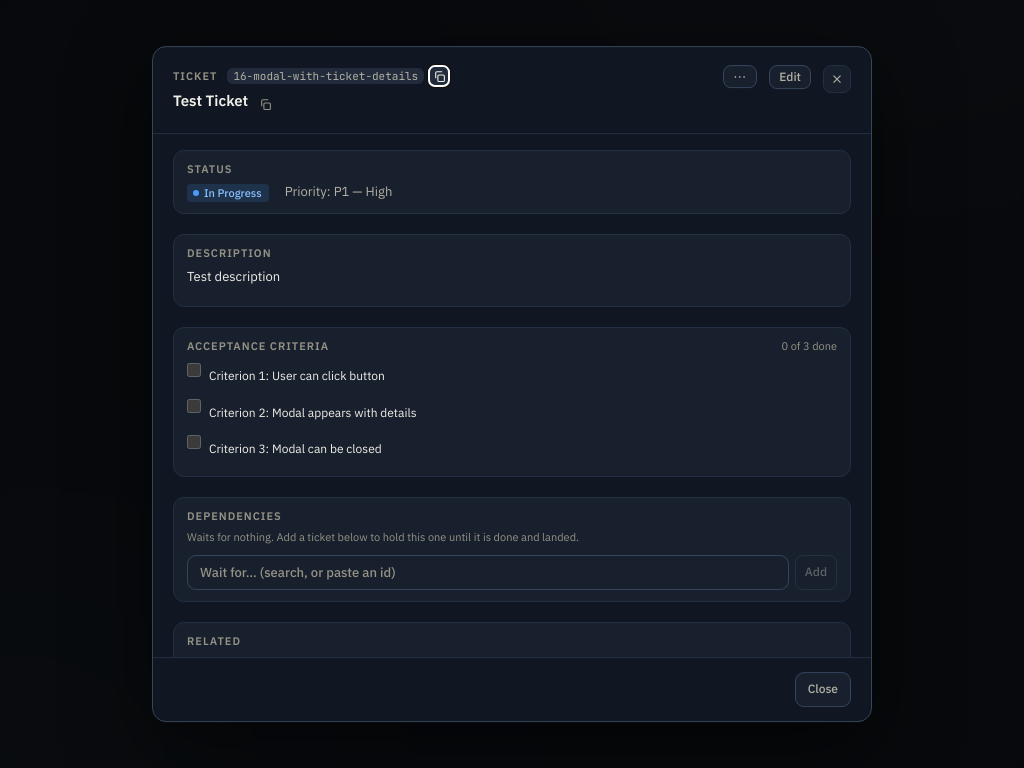
TicketDetailsModal › Ticket Details Display › should load acceptance criteria into the editor, one field per criterion
The image size is (1024, 768).
Click the button "Edit" at point(790, 77), box [769,65,811,90]
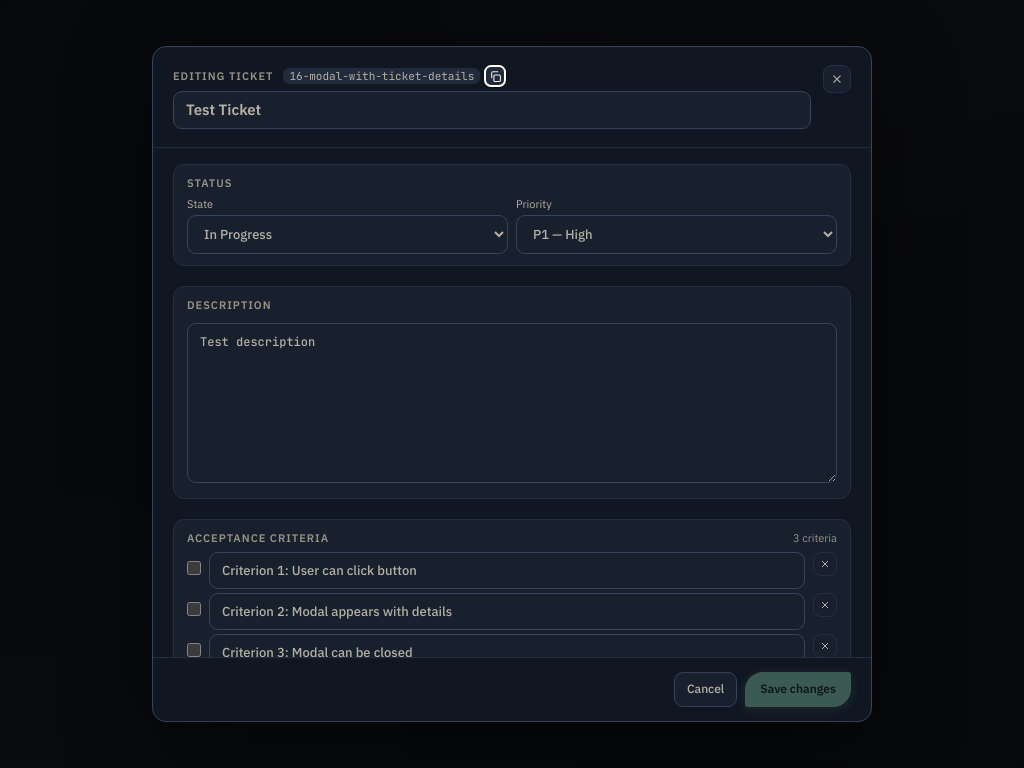
Expected: the text box named "Criterion 1" holds "Criterion 1: User can click button", [209,552,805,589]
Expected: the text box named "Criterion 2" holds "Criterion 2: Modal appears with details", [209,593,805,630]
Expected: the text box named "Criterion 3" holds "Criterion 3: Modal can be closed", [209,634,805,658]
